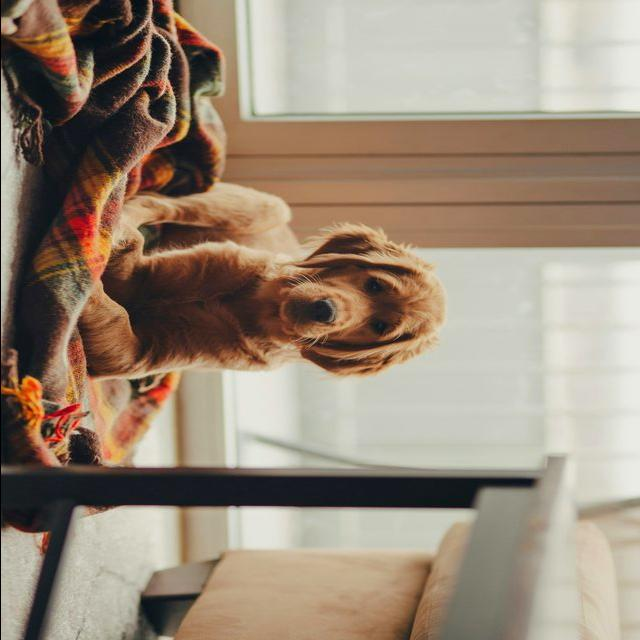retriever: (77, 182, 447, 383)
